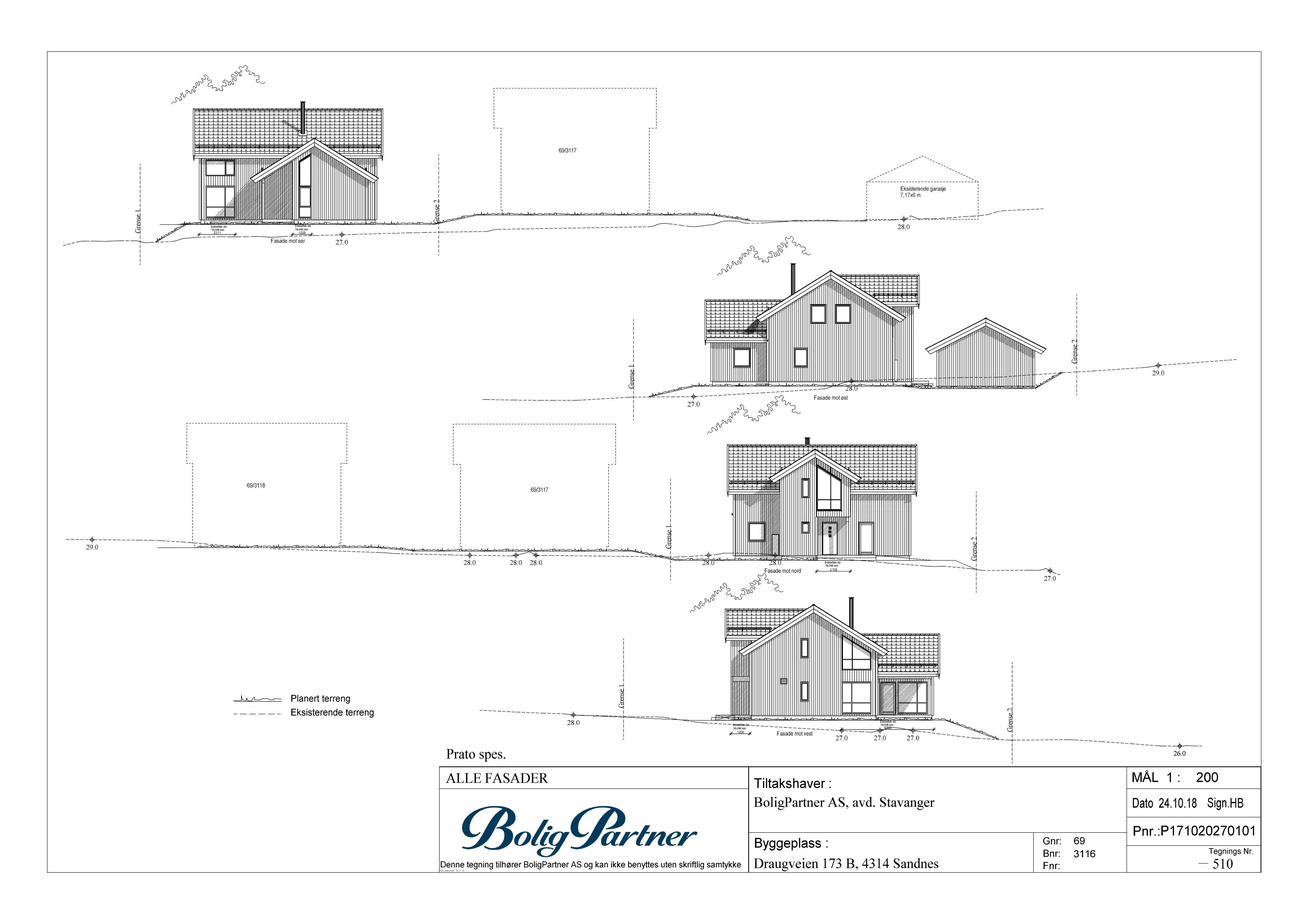fasade: (704, 262, 1048, 395), (711, 597, 1000, 741), (158, 100, 385, 239), (726, 437, 931, 568)
